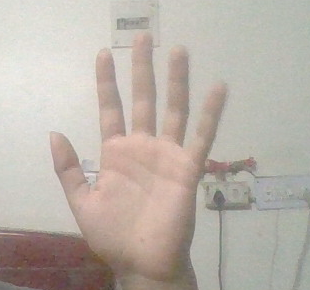move: (43, 27, 232, 280)
